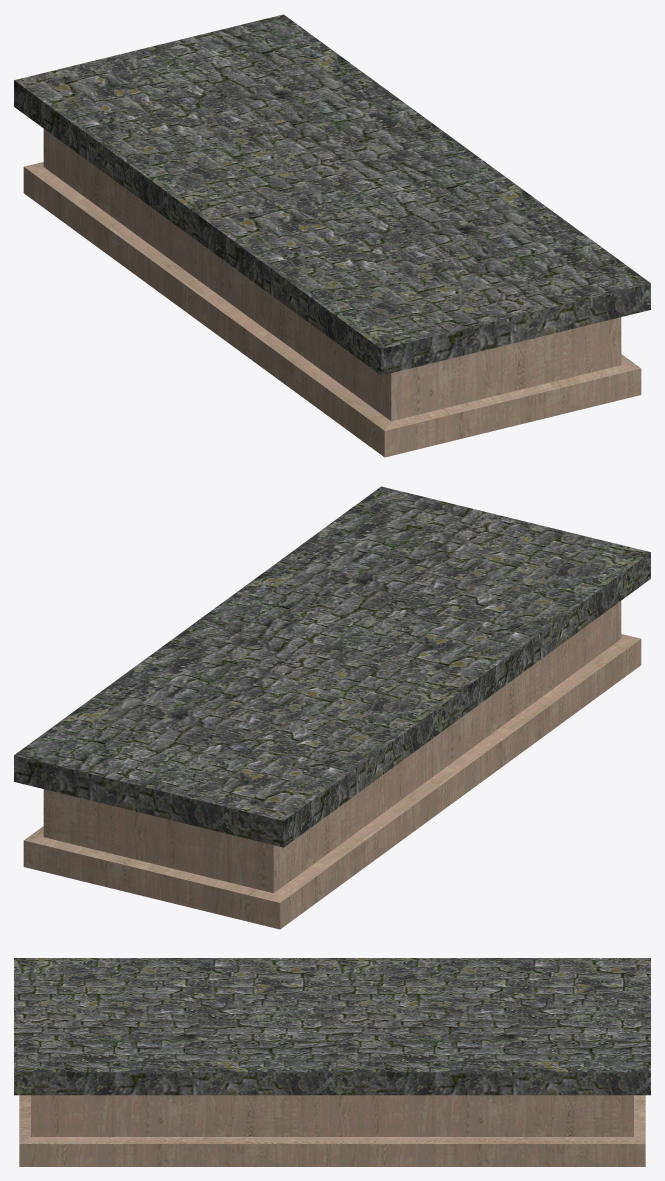
The model's file is SacrificialTable.fbx.
The picture shows the model from 3 angles, top to bottom: view 1: azimuth 30°, elevation 25°; view 2: azimuth 150°, elevation 25°; view 3: azimuth 270°, elevation 25°; orthographic projection. The views are drawn at different scales.
Parts seen in each view (by area): view 1: SacrficialTable; view 2: SacrficialTable; view 3: SacrficialTable.
Part boxes in pixels (bbox=[...]): SacrficialTable: bbox=[14, 14, 650, 457]; SacrficialTable: bbox=[14, 486, 650, 929]; SacrficialTable: bbox=[14, 958, 650, 1166].
Size of the model in its own units: 2.69 by 1.07 by 6.35.
Materials: 2 (2 with a texture image).
